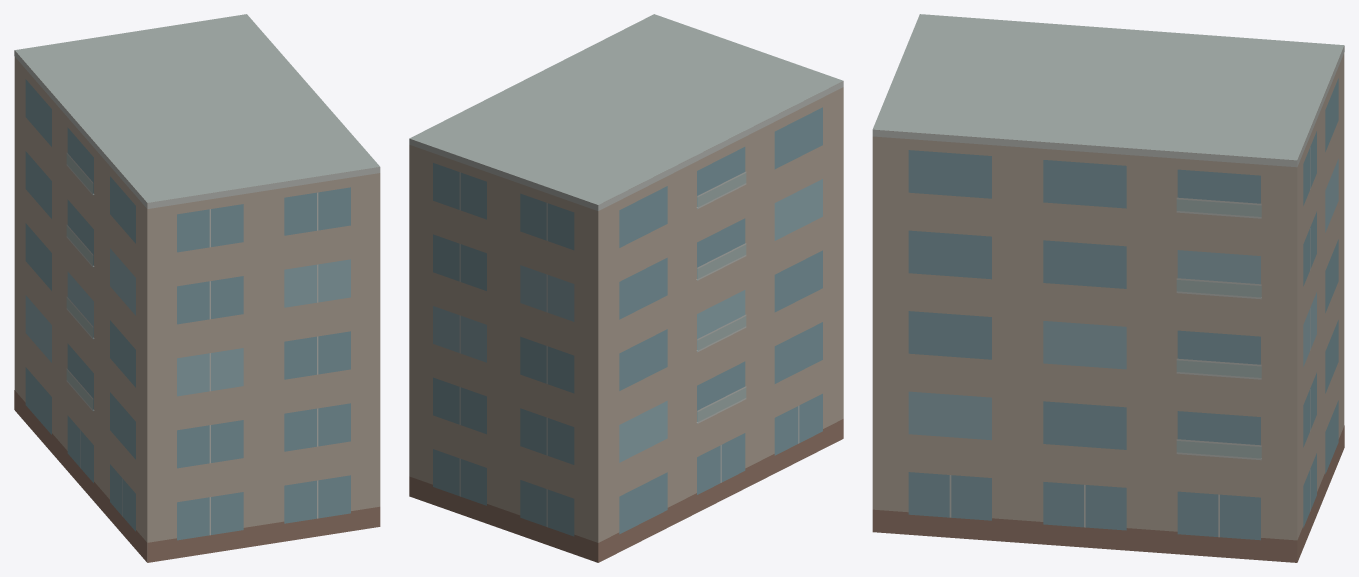
File: survey-upis-32646394.glb
3 views of the same model, side by side, from view 1: azimuth 30°, elevation 25°; view 2: azimuth 150°, elevation 25°; view 3: azimuth 270°, elevation 25° (orthographic). The views are drawn at different scales.
Parts seen in each view (by area): view 1: survey-upis-32646394.tmp; view 2: survey-upis-32646394.tmp; view 3: survey-upis-32646394.tmp.
Boxes of the visible parts, <box> form: survey-upis-32646394.tmp: <box>14,14,380,562</box>; survey-upis-32646394.tmp: <box>409,14,843,562</box>; survey-upis-32646394.tmp: <box>872,14,1344,562</box>.
Bounding box in the file's own units: 11.12 × 14.25 × 15.15.
